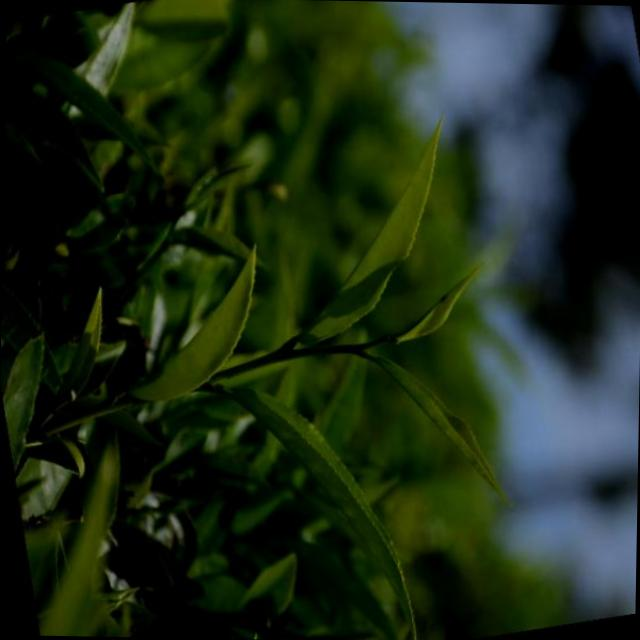Stem: (347, 344, 361, 353)
